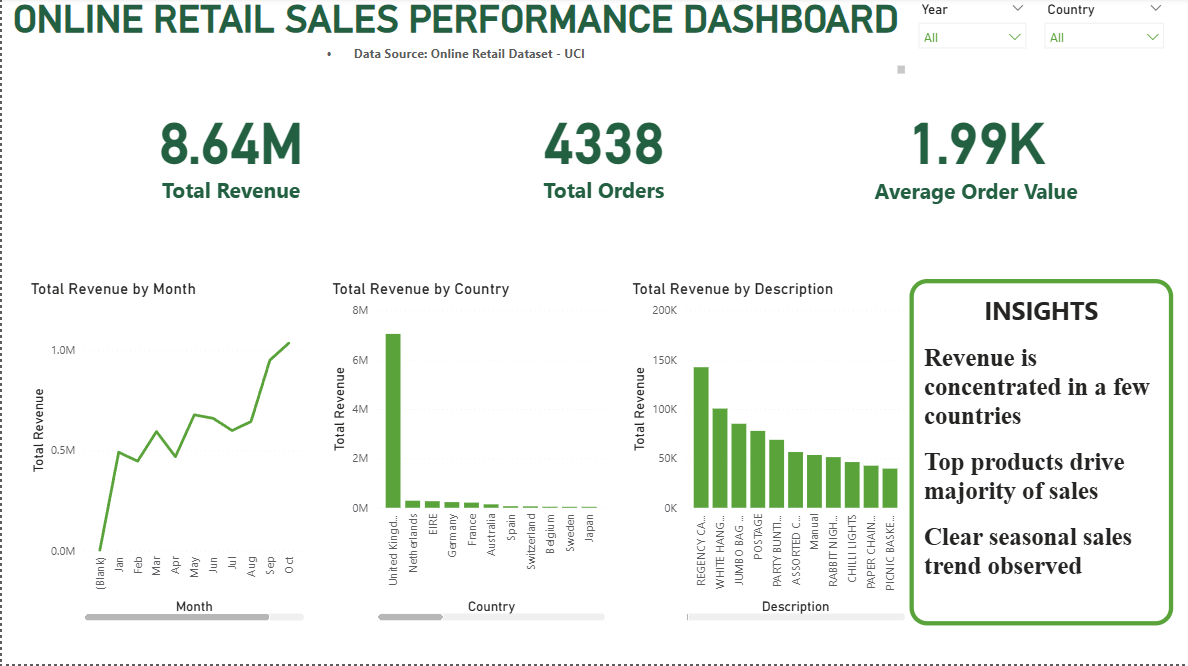

This screenshot's page, from the dashboard's own definition file:
{"tool":"powerbi","page":{"name":"Page 1","canvas":[1280,720],"ordinal":0},"visuals":[{"type":"columnChart","fields":{"Category":["SalesData.Country"],"Y":["SalesData.Total Revenue"]},"box":[350.7,304.4,304.5,373.6],"z":0},{"type":"card","fields":{"Values":["SalesData.Total Revenue"]},"box":[51.8,89.1,390.2,150.6],"z":1000},{"type":"textbox","title":"ONLINE RETAIL SALES PERFORMANCE DASHBOARD","box":[0,0,979.6,87.4],"z":2000},{"type":"card","fields":{"Values":["SalesData.Total Orders"]},"box":[454.8,89.1,388.6,150.6],"z":3000},{"type":"card","fields":{"Values":["SalesData.Average Order Value"]},"box":[856.1,88.8,389.3,151.2],"z":4000},{"type":"lineChart","fields":{"Category":["DateTable.Month"],"Y":["SalesData.Total Revenue"]},"box":[25.9,304.7,304.7,373.8],"z":5000},{"type":"columnChart","fields":{"Category":["SalesData.Description"],"Y":["SalesData.Total Revenue"]},"box":[675.2,304.4,304.5,373.6],"z":6000},{"type":"slicer","fields":{"Values":["DateTable.Year"]},"box":[979.6,0,136,81],"z":7000},{"type":"slicer","fields":{"Values":["SalesData.Country"]},"box":[1115.6,0,149,81],"z":8000},{"type":"textbox","box":[979.6,304.4,285,374],"z":9000}]}

Visuals, with their boxes in screenshot pixels (x1, y1, x2, y2), scaled from the page's 1280x720 canvas onto the 1188x666 screenshot:
columnChart - SalesData.Country x SalesData.Total Revenue: (x1=325, y1=282, x2=608, y2=627)
card - SalesData.Total Revenue: (x1=48, y1=82, x2=410, y2=222)
"ONLINE RETAIL SALES PERFORMANCE DASHBOARD" textbox: (x1=0, y1=0, x2=909, y2=81)
card - SalesData.Total Orders: (x1=422, y1=82, x2=783, y2=222)
card - SalesData.Average Order Value: (x1=795, y1=82, x2=1156, y2=222)
lineChart - DateTable.Month x SalesData.Total Revenue: (x1=24, y1=282, x2=307, y2=628)
columnChart - SalesData.Description x SalesData.Total Revenue: (x1=627, y1=282, x2=909, y2=627)
slicer - DateTable.Year: (x1=909, y1=0, x2=1035, y2=75)
slicer - SalesData.Country: (x1=1035, y1=0, x2=1174, y2=75)
textbox: (x1=909, y1=282, x2=1174, y2=628)
